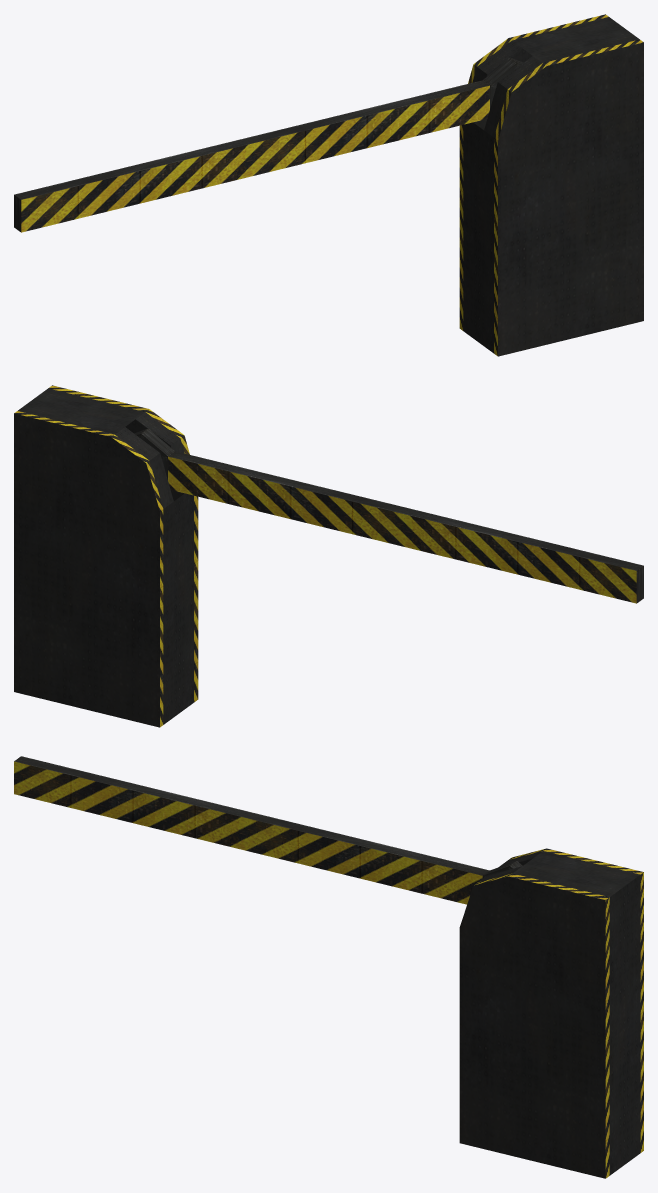
File: mechanic_02.FBX
3 renders of one model, top to bottom at view 1: azimuth 30°, elevation 25°; view 2: azimuth 150°, elevation 25°; view 3: azimuth 330°, elevation 25°, orthographic.
Parts seen in each view (by area): view 1: mechanic_02_main, mechanic_02_probe; view 2: mechanic_02_main, mechanic_02_probe; view 3: mechanic_02_main, mechanic_02_probe.
Boxes of the visible parts, <box> form: mechanic_02_main: <box>459,14,643,356</box>; mechanic_02_probe: <box>14,57,523,232</box>; mechanic_02_main: <box>14,385,198,727</box>; mechanic_02_probe: <box>134,428,643,603</box>; mechanic_02_main: <box>459,848,643,1178</box>; mechanic_02_probe: <box>14,756,522,904</box>.
Size of the model in its own units: 624 by 274 by 68.19.
